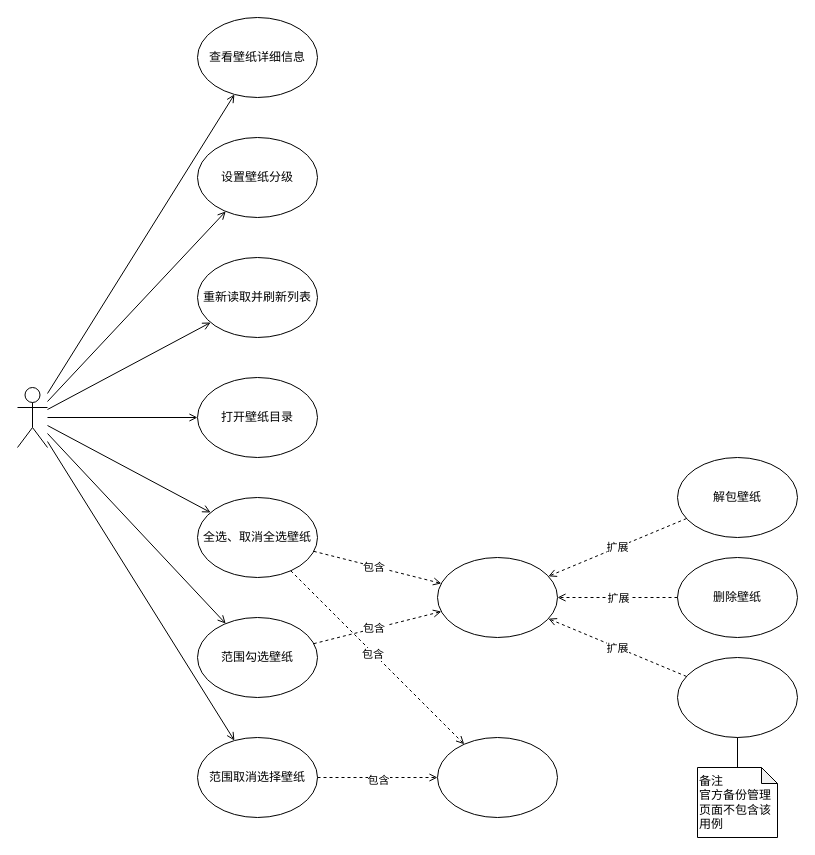
This 815x855 diagram has some shape labels left out. Here are the shapes that lost their labels. From the top down, the box of each, then its label:
(16, 386, 48, 448): 用户
(436, 556, 558, 638): 选择壁纸
(676, 656, 798, 738): 添加壁纸到 官方备份目录
(436, 736, 558, 818): 取消选择壁纸
